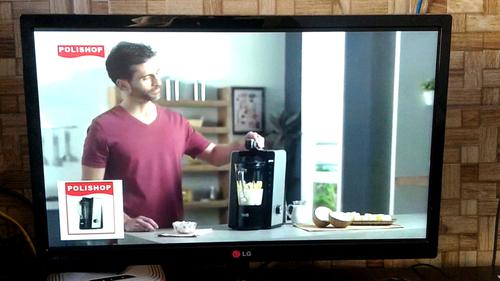Polishop #1: (56, 180, 124, 239)
